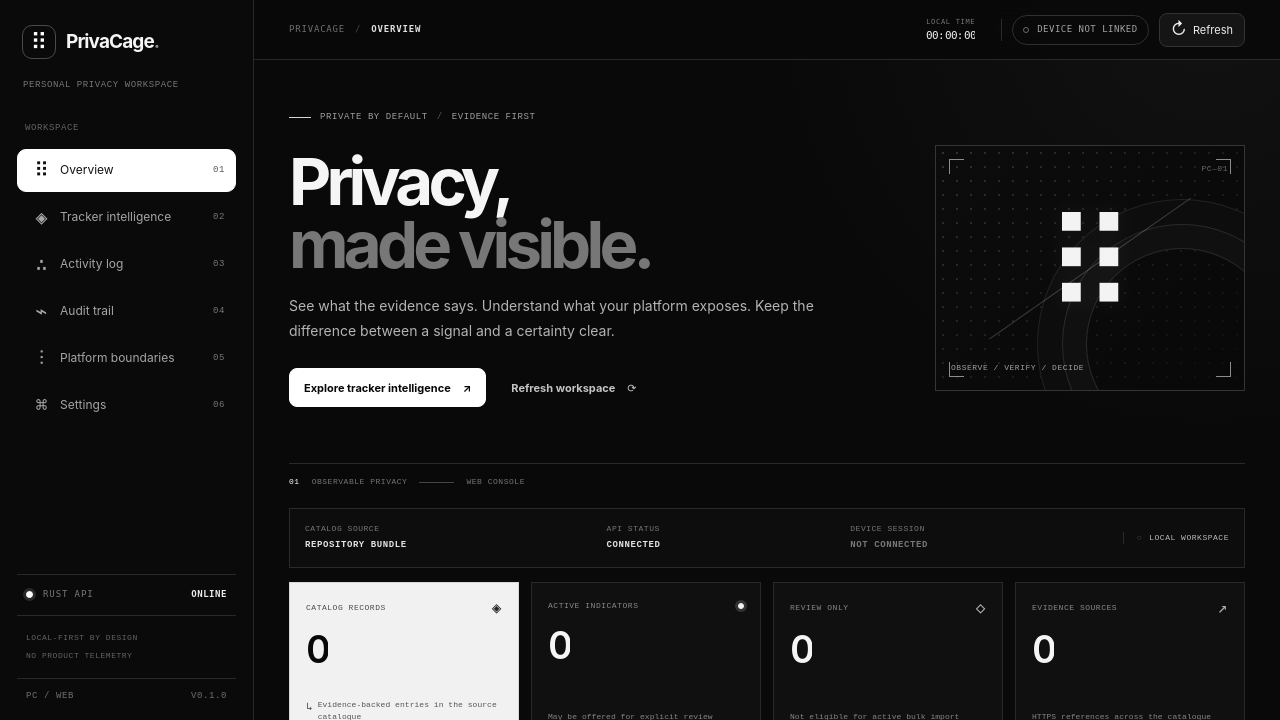
Test: PrivaCage web workspace › clears stale API-backed content when a workspace refresh fails
This screenshot has width=1280, height=720.
What coordinates should you click on to do the following:
click the button with aria-label "Refresh workspace"
I would click on:
 (1202, 30)
Its box is [1159, 12, 1245, 46].
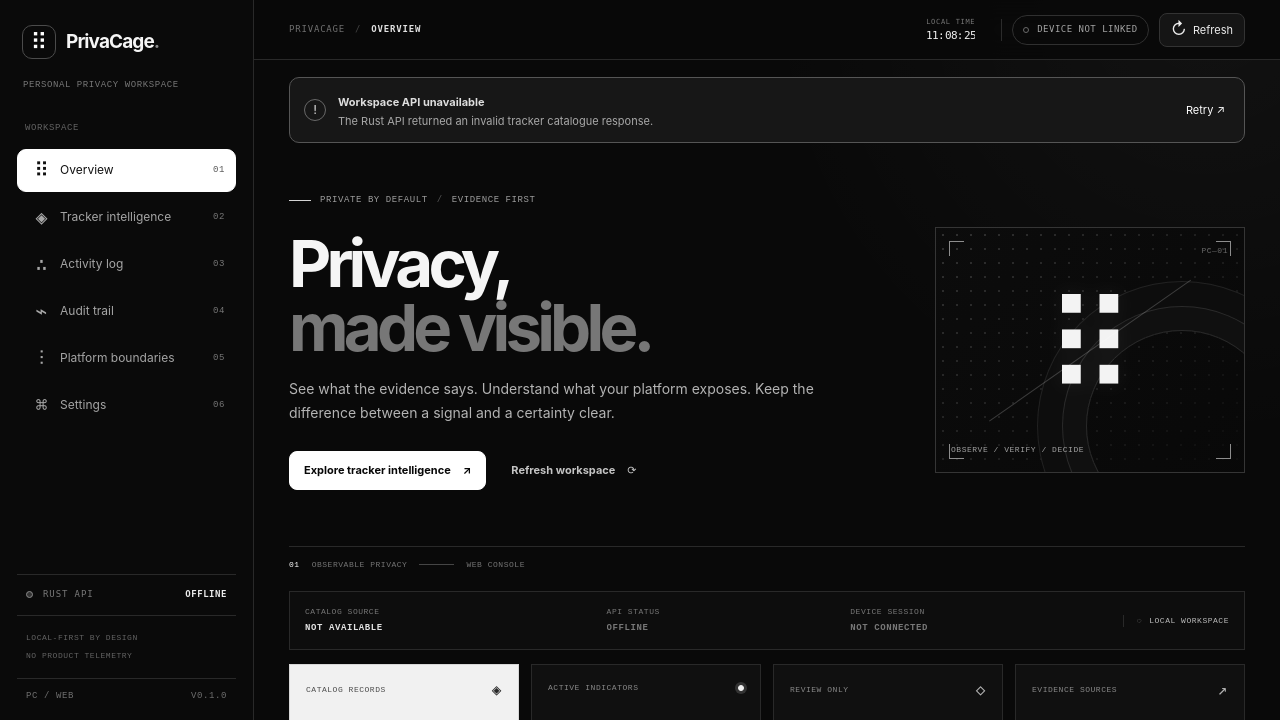
Expected: the text "DEVICE NOT LINKED" is shown, [1012, 14, 1149, 44]
Result: the message shows "The Rust API returned an invalid tracker catalogue response." at [338, 114, 653, 128]
Result: the text "NOT AVAILABLE" is shown at [305, 623, 383, 633]
